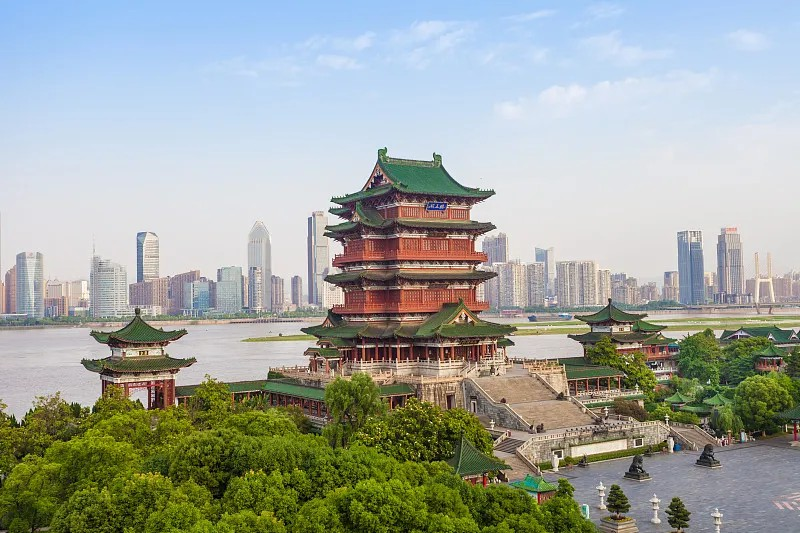Teng: (300, 148, 518, 362)
